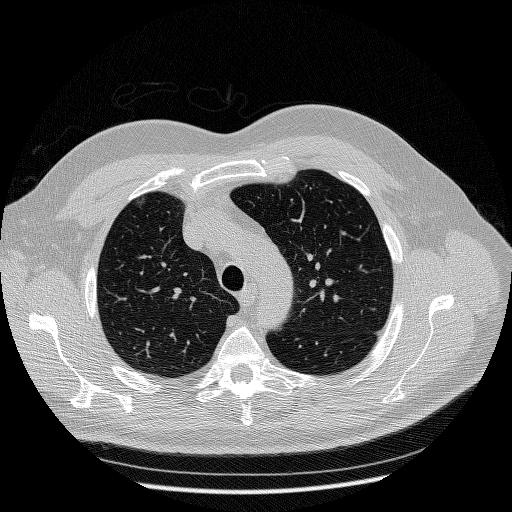nodule: (133, 193, 149, 209)
